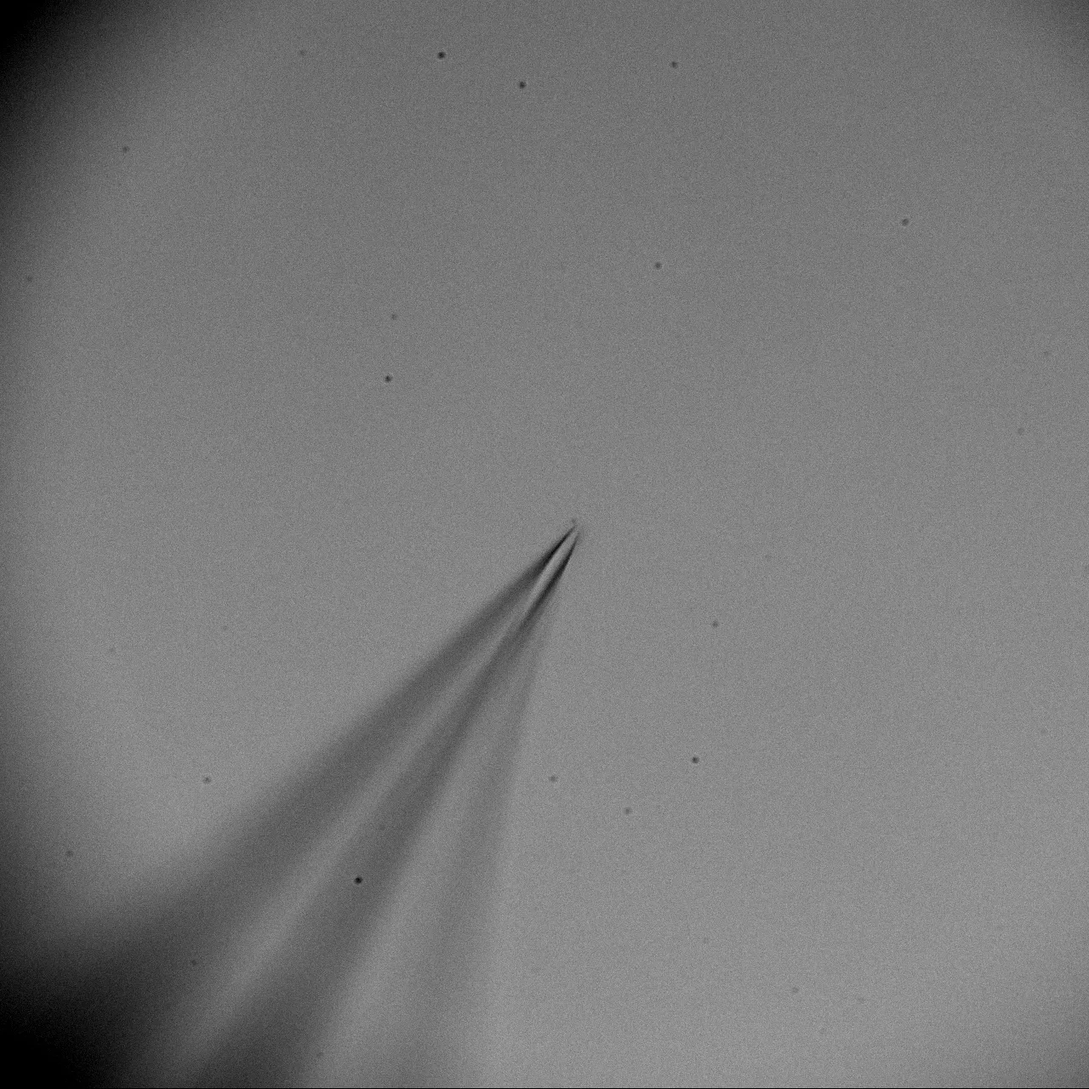tip: (501, 518, 611, 661)
